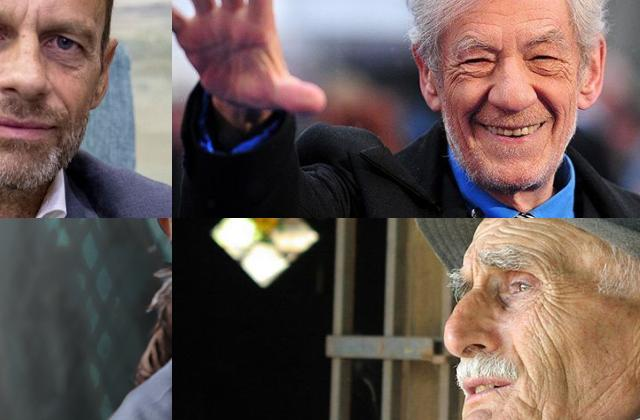crows_feet: (535, 276, 565, 308), (558, 57, 574, 85), (445, 59, 463, 83), (81, 46, 97, 66)
forehead: (514, 223, 548, 241), (524, 247, 554, 267), (518, 12, 554, 26), (466, 16, 500, 30), (491, 228, 512, 244), (497, 218, 524, 223)
frown_line: (20, 2, 40, 32), (466, 263, 479, 285)
gummy_smile: (468, 86, 490, 118), (510, 344, 530, 376), (538, 88, 558, 114), (58, 94, 72, 120)
masseter: (535, 320, 565, 362), (594, 374, 624, 408), (554, 362, 578, 398), (527, 391, 549, 420), (454, 119, 471, 147)
